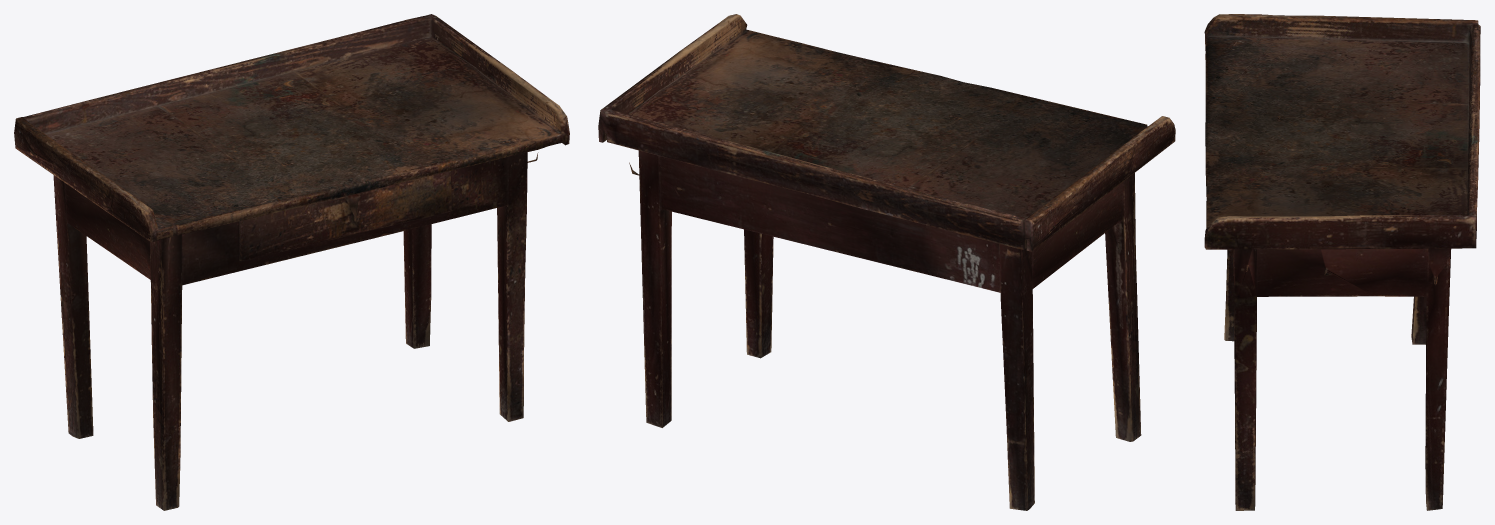
Rendered from wooden_table.glb.
3 views of the same model, side by side, from view 1: azimuth 30°, elevation 25°; view 2: azimuth 150°, elevation 25°; view 3: azimuth 270°, elevation 25° (orthographic). The views are drawn at different scales.
Visible parts, largest first — view 1: veigfjmaw_LOD0_TIER3_000; view 2: veigfjmaw_LOD0_TIER3_000; view 3: veigfjmaw_LOD0_TIER3_000.
Boxes of the visible parts, x1,y1,x2,y2 form: veigfjmaw_LOD0_TIER3_000: [14, 14, 569, 510]; veigfjmaw_LOD0_TIER3_000: [598, 14, 1175, 510]; veigfjmaw_LOD0_TIER3_000: [1204, 14, 1480, 510].
Size of the model in its own units: 0.9257 by 0.6497 by 0.5256.
Materials: 1 (1 with a texture image).
